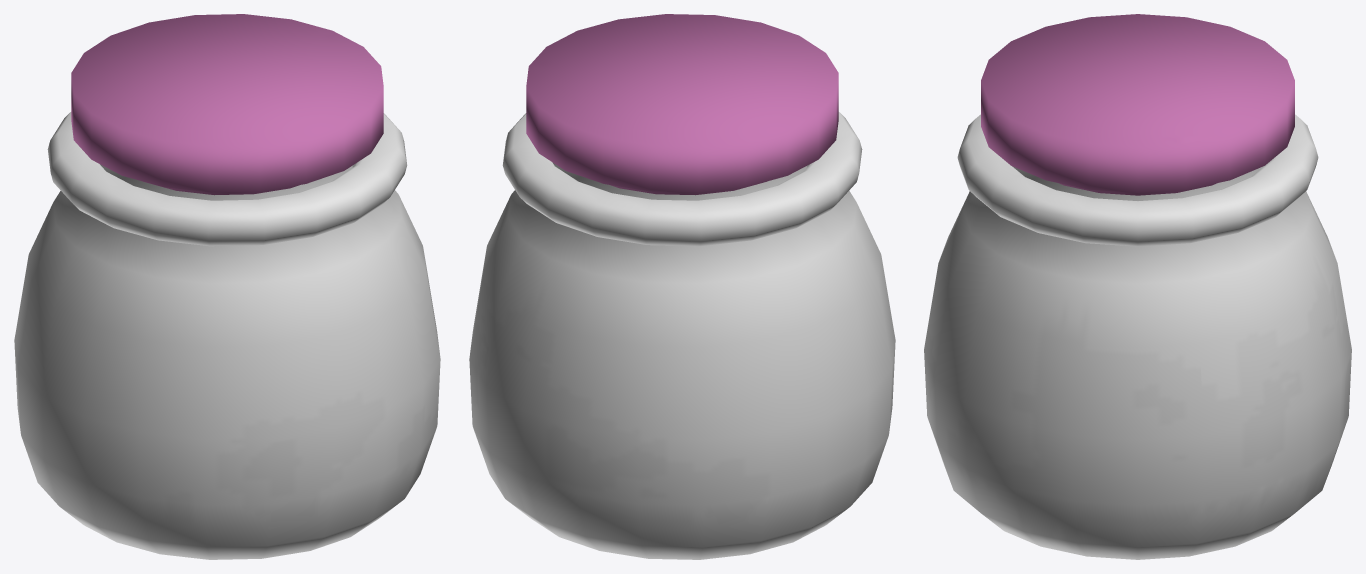
Rendered from pi_glasspot06_whippedcream.gltf.
The picture shows the model from 3 angles, left to right: view 1: azimuth 30°, elevation 25°; view 2: azimuth 150°, elevation 25°; view 3: azimuth 270°, elevation 25°; orthographic projection.
Visible parts, largest first — view 1: pi_glasspot06_outside01_mesh_shape__duprename_0bbb365x:pi_gl, pi_glasspot06_lid01_mesh_shape:pi_glasspot06_body, pi_glasspot06_inside01_mesh_shape:pi_glasspot06_glass; view 2: pi_glasspot06_outside01_mesh_shape__duprename_0bbb365x:pi_gl, pi_glasspot06_lid01_mesh_shape:pi_glasspot06_body, pi_glasspot06_inside01_mesh_shape:pi_glasspot06_glass; view 3: pi_glasspot06_outside01_mesh_shape__duprename_0bbb365x:pi_gl, pi_glasspot06_lid01_mesh_shape:pi_glasspot06_body, pi_glasspot06_inside01_mesh_shape:pi_glasspot06_glass.
Boxes of the visible parts, bbox=[...] form: pi_glasspot06_outside01_mesh_shape__duprename_0bbb365x:pi_gl: bbox=[14, 112, 440, 559]; pi_glasspot06_lid01_mesh_shape:pi_glasspot06_body: bbox=[71, 14, 383, 195]; pi_glasspot06_inside01_mesh_shape:pi_glasspot06_glass: bbox=[102, 165, 352, 200]; pi_glasspot06_outside01_mesh_shape__duprename_0bbb365x:pi_gl: bbox=[469, 112, 895, 559]; pi_glasspot06_lid01_mesh_shape:pi_glasspot06_body: bbox=[526, 14, 838, 195]; pi_glasspot06_inside01_mesh_shape:pi_glasspot06_glass: bbox=[557, 165, 807, 200]; pi_glasspot06_outside01_mesh_shape__duprename_0bbb365x:pi_gl: bbox=[924, 114, 1351, 559]; pi_glasspot06_lid01_mesh_shape:pi_glasspot06_body: bbox=[981, 14, 1294, 195]; pi_glasspot06_inside01_mesh_shape:pi_glasspot06_glass: bbox=[1012, 166, 1263, 200].
Bounding box in the file's own units: 0.0943 × 0.0997 × 0.0943.
3 materials, 3 textured.
